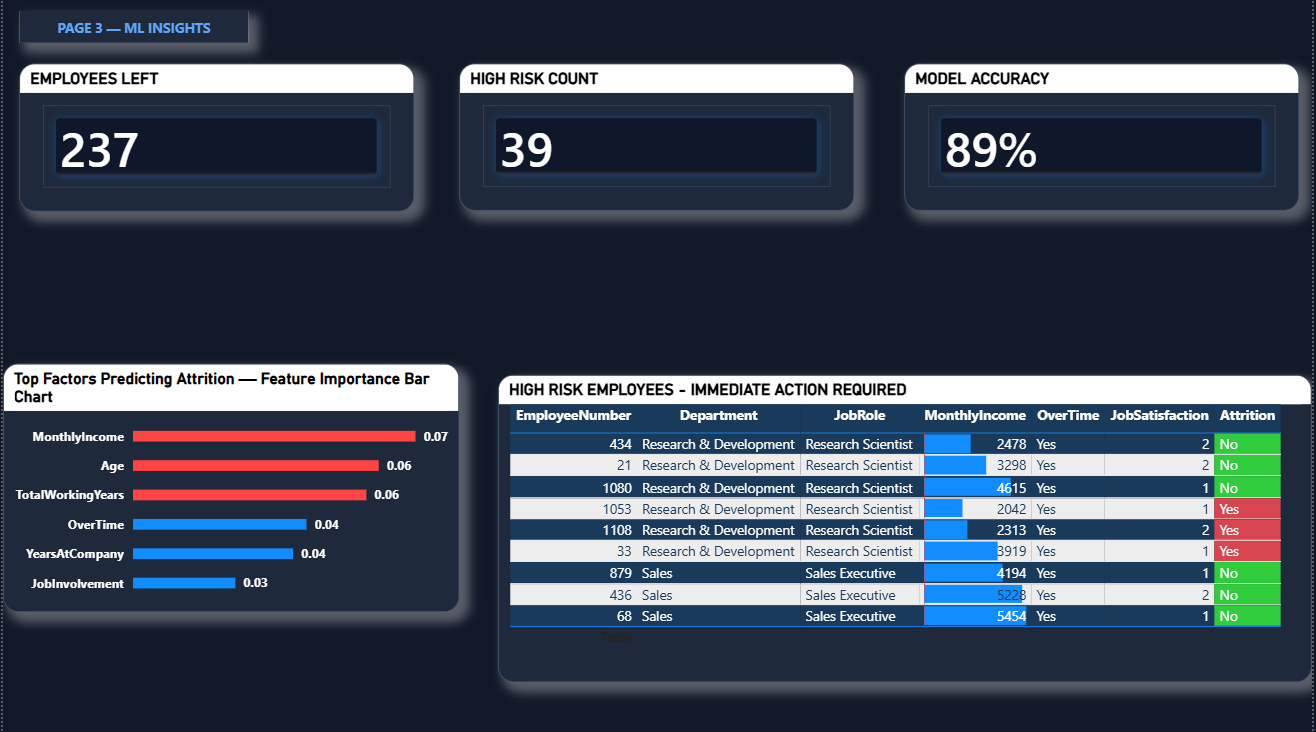

What the dashboard file says about the page in this screenshot:
{"tool":"powerbi","page":{"name":"ML INSIGHTS","canvas":[1280,720],"ordinal":2},"visuals":[{"type":"shape","title":"PAGE 1 — EXECUTIVE OVERVIEW","box":[15.6,14.3,224.2,31.3],"z":3000},{"type":"cardVisual","title":"EMPLOYEES LEFT","fields":{"Data":["Sum(powerbi_cost_analysis.Employees_Left)"]},"box":[16.2,66.2,386.6,144.6],"z":4000},{"type":"cardVisual","title":"HIGH RISK COUNT ","fields":{"Data":["powerbi_high_risk.High Risk Count"]},"box":[446.3,66,386.4,144.3],"z":5000},{"type":"cardVisual","title":"MODEL ACCURACY","fields":{"Data":["powerbi_main_data.Attrition Rate Display"]},"box":[881.7,66,386.4,144.3],"z":6000},{"type":"clusteredBarChart","title":"Top Factors Predicting Attrition — Feature Importance Bar Chart","fields":{"Y":["Sum(powerbi_feature_importance.Importance)"],"Category":["powerbi_feature_importance.Feature"]},"box":[0,359.5,446.3,243.3],"z":7000},{"type":"tableEx","title":"HIGH RISK EMPLOYEES - IMMEDIATE ACTION REQUIRED","fields":{"Values":["powerbi_high_risk.EmployeeNumber","powerbi_high_risk.Department","powerbi_high_risk.JobRole","powerbi_high_risk.MonthlyIncome","powerbi_high_risk.OverTime","powerbi_high_risk.JobSatisfaction","powerbi_high_risk.Attrition"]},"box":[484.2,370.5,796.1,300.8],"z":8000}]}

Visuals, with their boxes in screenshot pixels (x1, y1, x2, y2), scaled from the page's 1280x720 canvas onto the 1316x732 screenshot:
"PAGE 1 — EXECUTIVE OVERVIEW" shape: <box>16,15,247,46</box>
"EMPLOYEES LEFT" cardVisual: <box>17,67,414,214</box>
"HIGH RISK COUNT " cardVisual: <box>459,67,856,214</box>
"MODEL ACCURACY" cardVisual: <box>906,67,1304,214</box>
"Top Factors Predicting Attrition — Feature Importance Bar Chart" clusteredBarChart: <box>0,365,459,613</box>
"HIGH RISK EMPLOYEES - IMMEDIATE ACTION REQUIRED" tableEx: <box>498,377,1315,682</box>
